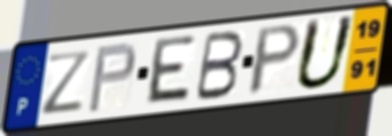B: (192, 29, 246, 104)
E: (142, 33, 198, 107)
P: (245, 21, 305, 99), (85, 40, 138, 116)
U: (291, 13, 359, 93)
Z: (41, 47, 95, 117)
